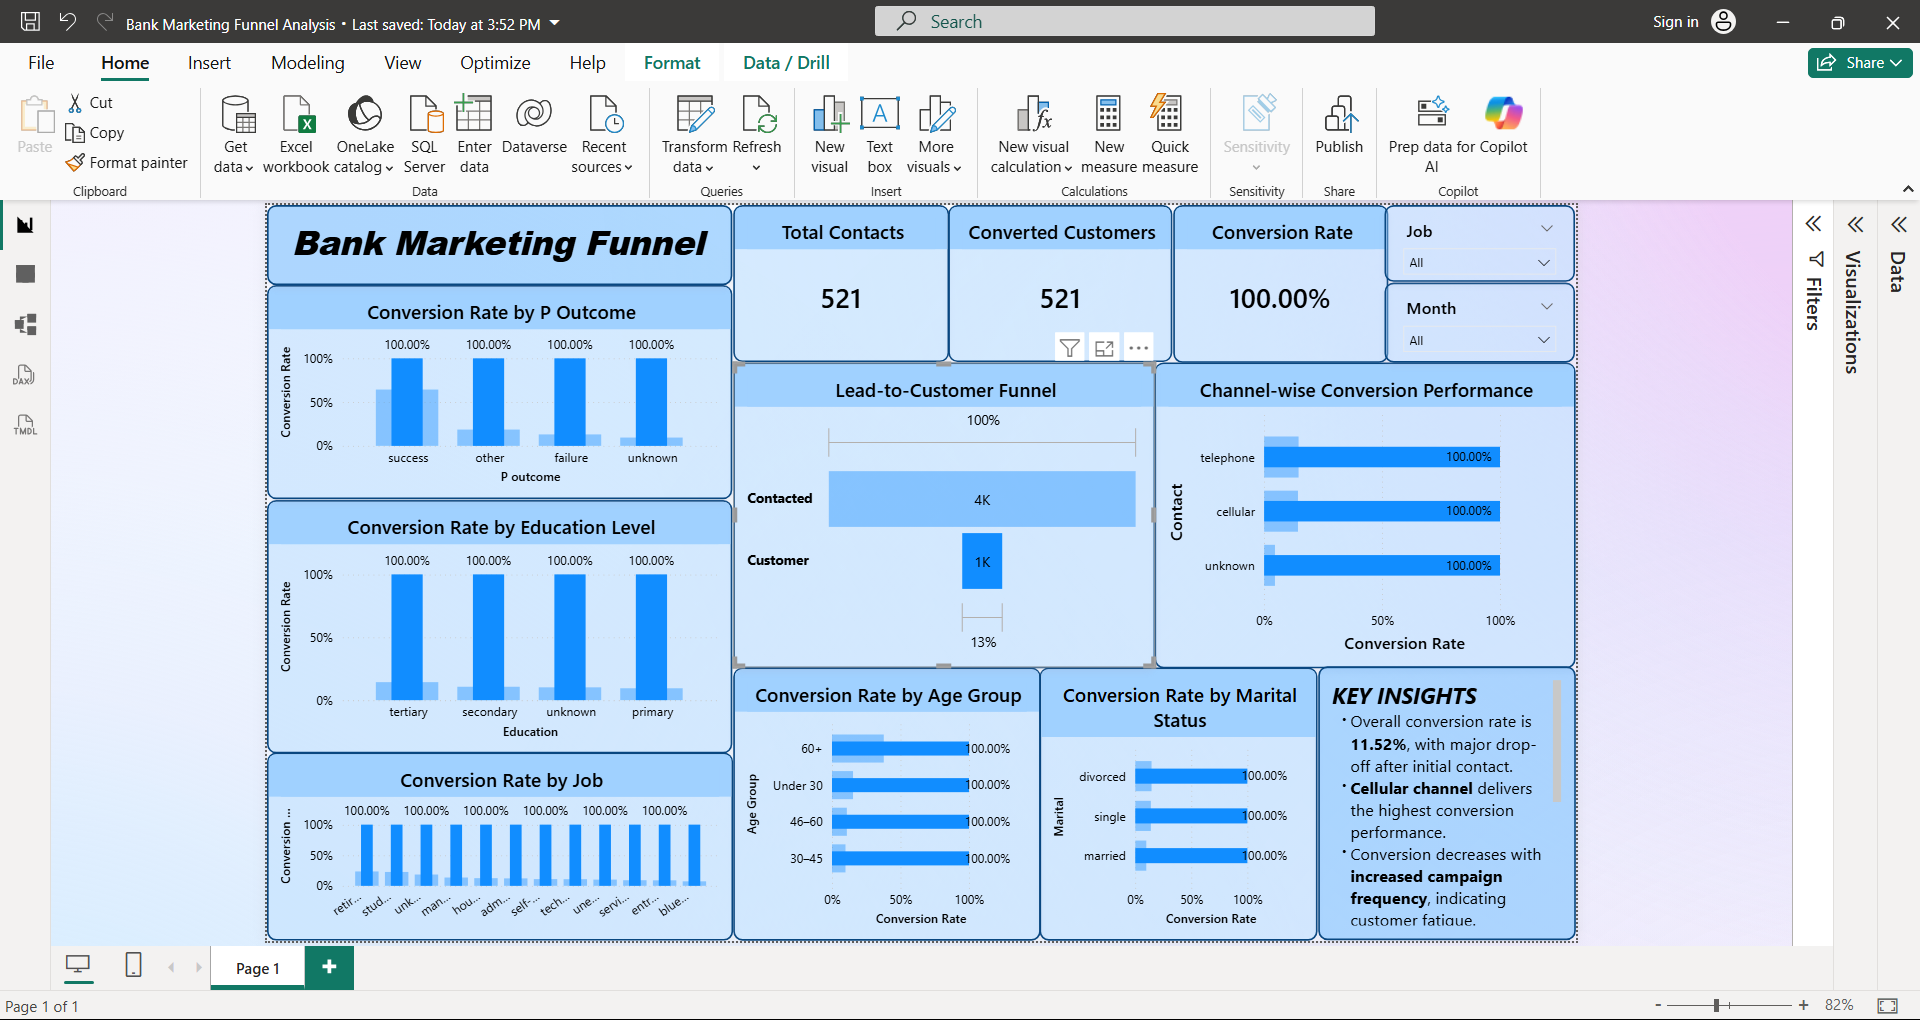

This screenshot's page, from the dashboard's own definition file:
{"tool":"powerbi","page":{"name":"Page 1","canvas":[1280,720],"ordinal":0},"visuals":[{"type":"card","title":"Total Contacts","fields":{"Values":["Cleaned_Bank_data.Total Contacts"]},"box":[455.6,0,211.3,153.7],"z":0},{"type":"card","title":"Converted Customers","fields":{"Values":["Cleaned_Bank_data.Total Customers"]},"box":[666.9,0,219.6,153.7],"z":1000},{"type":"card","title":"Conversion Rate","fields":{"Values":["Cleaned_Bank_data.Conversion Rate"]},"box":[886.6,0,210.3,154.1],"z":2000},{"type":"funnel","title":"Lead-to-Customer Funnel","fields":{"Y":["Cleaned_Bank_data.Funnel Count"],"Category":["Cleaned_Bank_data.Funnel Stage"]},"box":[455.6,153.7,413,299.1],"z":3000},{"type":"clusteredBarChart","title":"Channel-wise Conversion Performance","fields":{"Category":["Cleaned_Bank_data.Contact"],"Y":["Cleaned_Bank_data.Conversion Rate"]},"box":[868.6,153.7,411.7,299.1],"z":4000},{"type":"slicer","fields":{"Values":["Cleaned_Bank_data.Month"]},"box":[1093.7,75.5,186.6,78.2],"z":5000},{"type":"slicer","fields":{"Values":["Cleaned_Bank_data.Job"]},"box":[1093.7,0,186.6,75.5],"z":6000},{"type":"clusteredBarChart","title":"Conversion Rate by Marital Status","fields":{"Category":["Cleaned_Bank_data.Marital"],"Y":["Cleaned_Bank_data.Conversion Rate"]},"box":[756.1,452.8,271.7,267.6],"z":7000},{"type":"clusteredColumnChart","title":"Conversion Rate by Education Level","fields":{"Category":["Cleaned_Bank_data.Education"],"Y":["Cleaned_Bank_data.Conversion Rate"]},"box":[0,288.2,455.6,248.4],"z":8000},{"type":"clusteredBarChart","fields":{"Category":["Cleaned_Bank_data.Age Group"],"Y":["Cleaned_Bank_data.Conversion Rate"]},"box":[455.6,452.8,300.5,267.6],"z":9000},{"type":"clusteredColumnChart","title":"Conversion Rate by P Outcome","fields":{"Y":["Cleaned_Bank_data.Conversion Rate"],"Category":["Cleaned_Bank_data.P out Come"]},"box":[0,78.2,455.6,209.9],"z":10000},{"type":"textbox","title":"Bank Marketing Funnel","box":[0,0,455.6,78.2],"z":11000},{"type":"clusteredColumnChart","fields":{"Category":["Cleaned_Bank_data.Job"],"Y":["Cleaned_Bank_data.Conversion Rate"]},"box":[0,536,456,184],"z":12000},{"type":"textbox","box":[1028.4,451.2,251.9,267.8],"z":13000}]}

Visuals, with their boxes on the page's 1280x720 design canvas (x1, y1, x2, y2). These are canvas units, not pixel positions in the 1920x1020 screenshot, which may show the page scaled, cropped or inside an application window:
"Total Contacts" card: [456,0,667,154]
"Converted Customers" card: [667,0,886,154]
"Conversion Rate" card: [887,0,1097,154]
"Lead-to-Customer Funnel" funnel: [456,154,869,453]
"Channel-wise Conversion Performance" clusteredBarChart: [869,154,1280,453]
slicer - Cleaned_Bank_data.Month: [1094,76,1280,154]
slicer - Cleaned_Bank_data.Job: [1094,0,1280,76]
"Conversion Rate by Marital Status" clusteredBarChart: [756,453,1028,720]
"Conversion Rate by Education Level" clusteredColumnChart: [0,288,456,537]
clusteredBarChart - Cleaned_Bank_data.Age Group x Cleaned_Bank_data.Conversion Rate: [456,453,756,720]
"Conversion Rate by P Outcome" clusteredColumnChart: [0,78,456,288]
"Bank Marketing Funnel" textbox: [0,0,456,78]
clusteredColumnChart - Cleaned_Bank_data.Job x Cleaned_Bank_data.Conversion Rate: [0,536,456,720]
textbox: [1028,451,1280,719]
